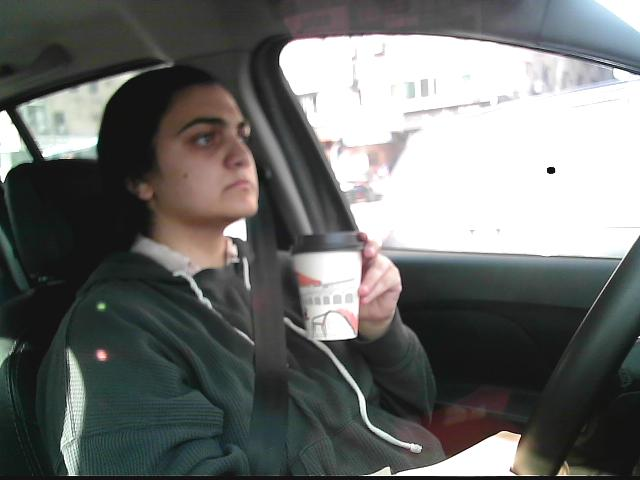Drinking: (288, 223, 365, 342)
